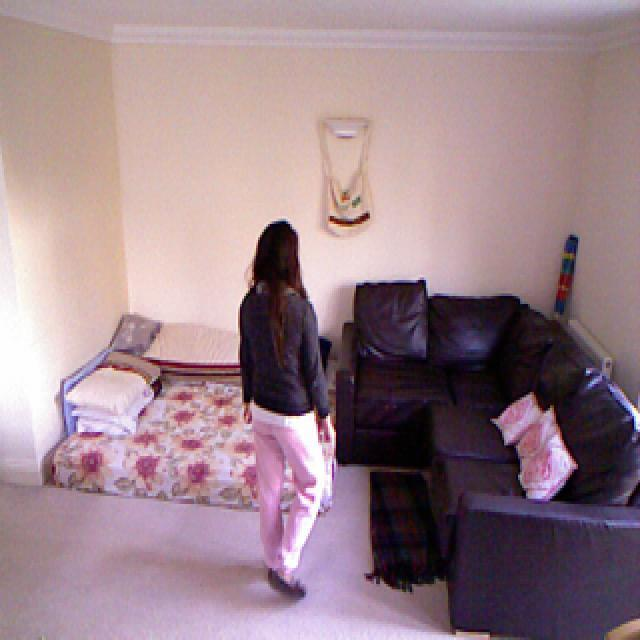walking: (218, 204, 360, 614)
